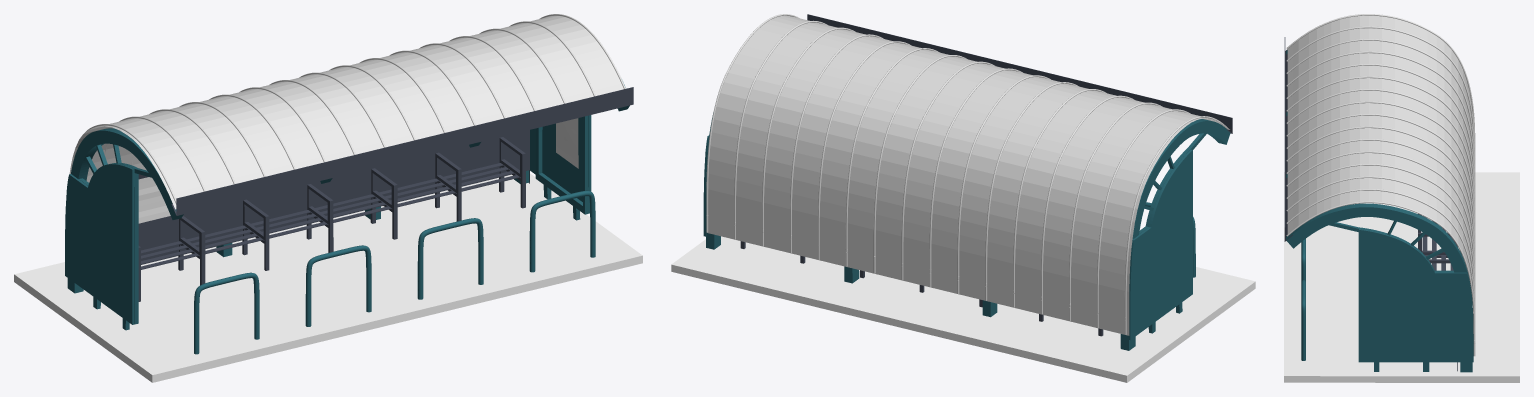
The model's file is busstop.glb.
The picture shows the model from 3 angles, left to right: view 1: azimuth 30°, elevation 25°; view 2: azimuth 150°, elevation 25°; view 3: azimuth 270°, elevation 25°; orthographic projection. The views are drawn at different scales.
Visible parts, largest first — view 1: Plane.014; view 2: Plane.014; view 3: Plane.014.
Part boxes in pixels (box(x1,y1,x2,y2)): Plane.014: box(14, 14, 642, 382); Plane.014: box(671, 14, 1255, 382); Plane.014: box(1284, 14, 1519, 382).
Bounding box in the file's own units: 11.11 × 4.52 × 5.43.
